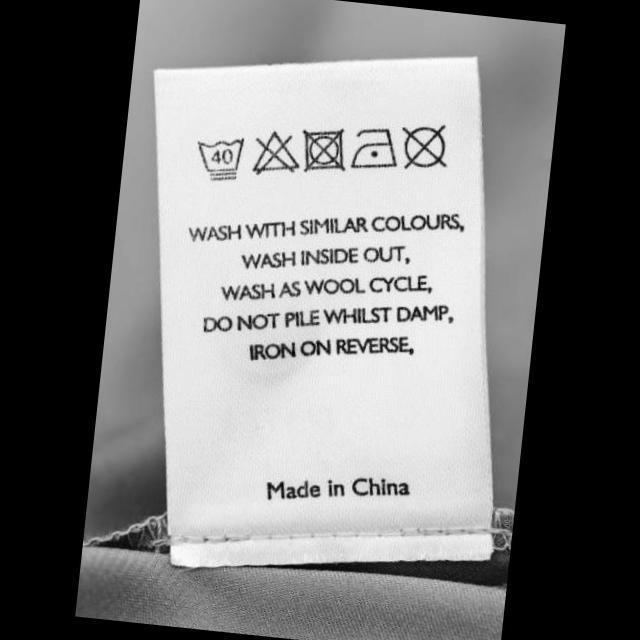40C: (190, 130, 248, 184)
DN_bleach: (248, 126, 304, 180)
DN_dry_clean: (396, 118, 454, 174)
DN_tumble_dry: (296, 122, 352, 177)
iron_low: (349, 122, 403, 176)
